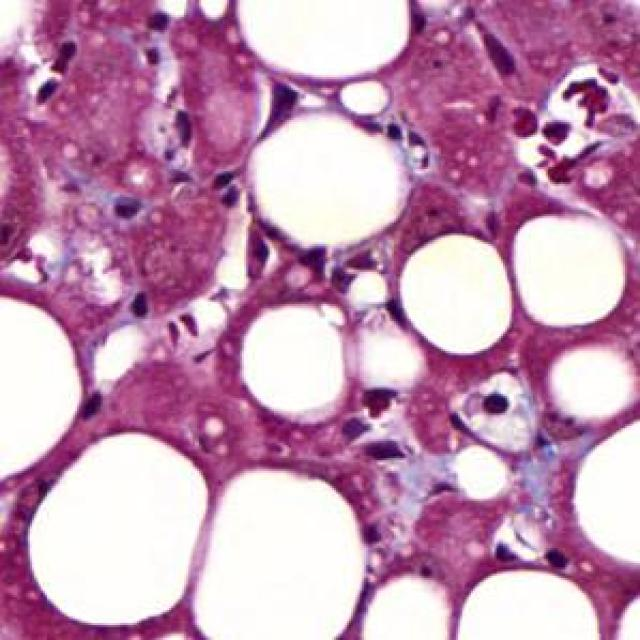steatosis: (244, 122, 420, 248), (514, 208, 629, 334), (400, 234, 514, 358)
